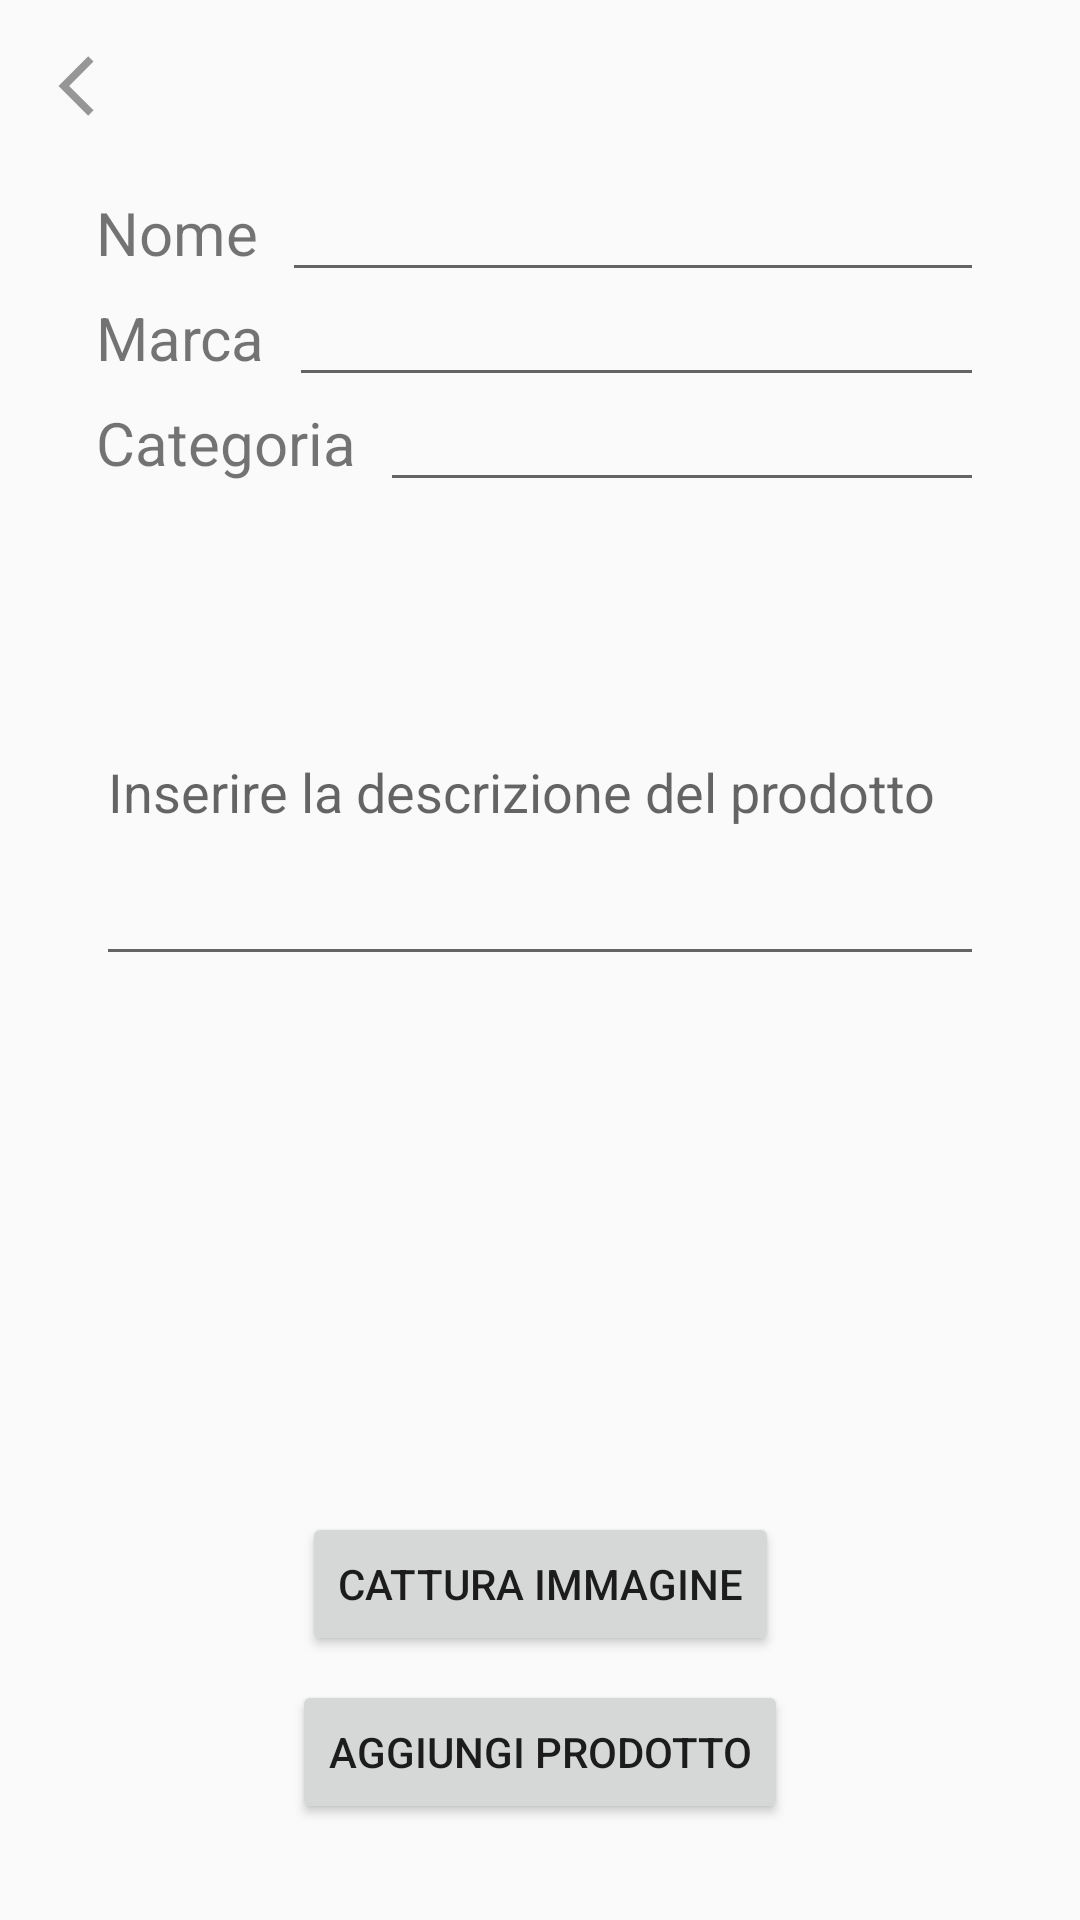

Icons on this 1080 × 1920 Android screen, each with its box as (x1, y1, x2, y2):
arrow back: (59, 56, 93, 116)
